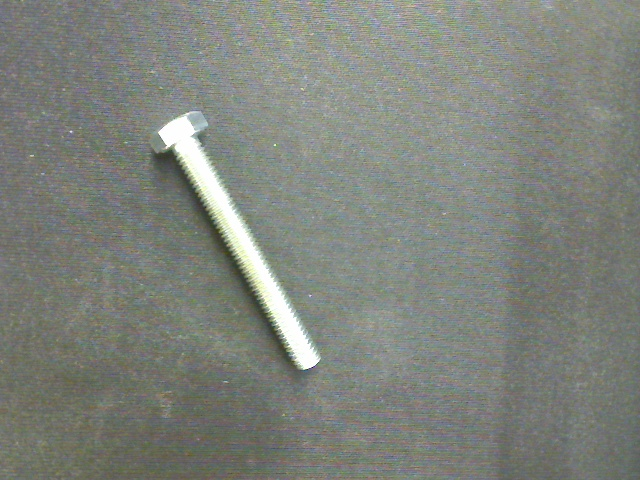Screw: (148, 111, 322, 371)
